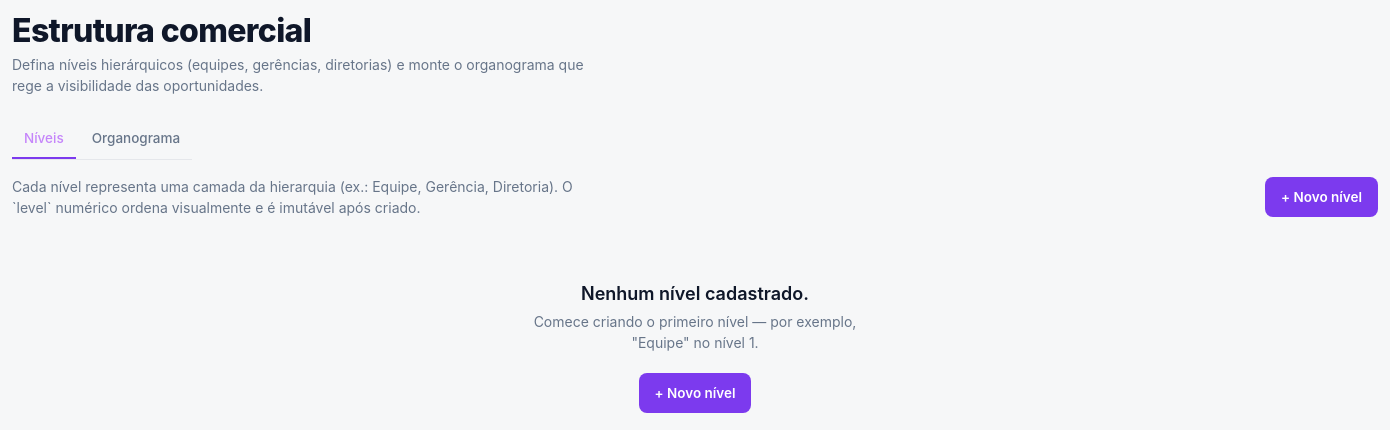
/admin/commercial-structure (Sprint 15G Fase 4a) › tree flat com pai/filho renderiza árvore hierárquica
Click the tab "Organograma": (136, 140) [80, 120, 192, 159]
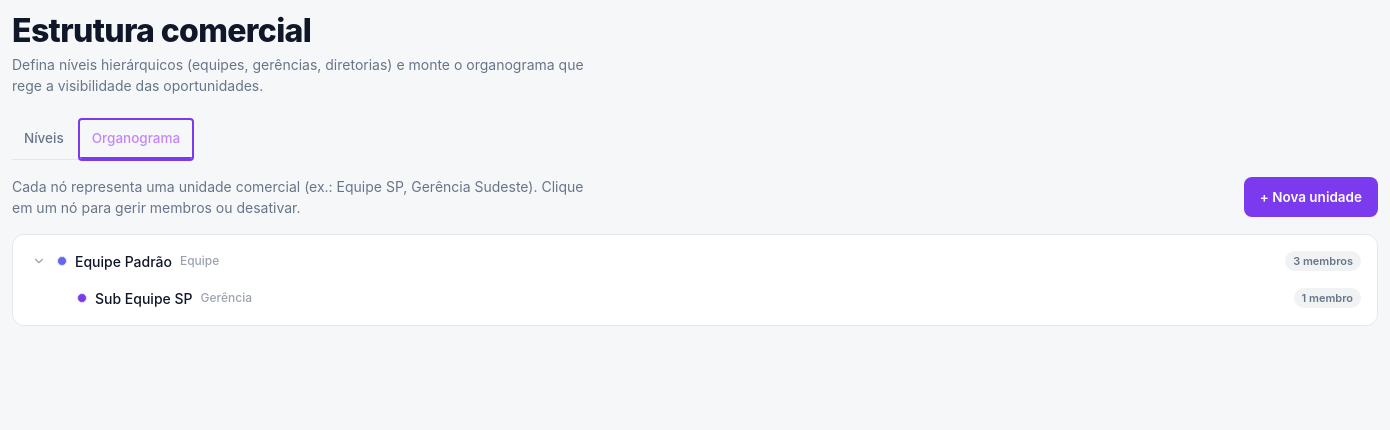
Check: the list is shown, box [21, 243, 1369, 317]
Check: the text "Equipe Padrão" is shown, box [75, 251, 172, 272]
Check: the text "Sub Equipe SP" is shown, box [95, 288, 192, 309]
